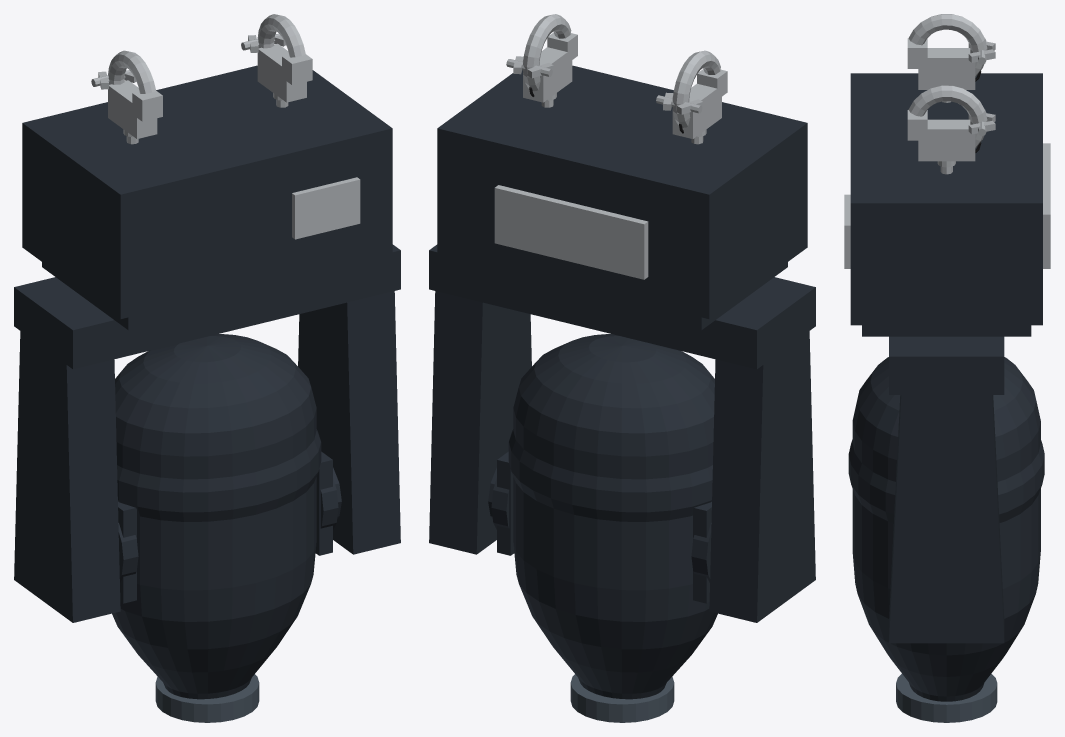
The model's file is moving-head-profile.glb.
The picture shows the model from 3 angles, left to right: view 1: azimuth 30°, elevation 25°; view 2: azimuth 150°, elevation 25°; view 3: azimuth 270°, elevation 25°; orthographic projection. The views are drawn at different scales.
Visible parts, largest first — view 1: moving-base, head-body, yoke-left, yoke-right, yoke-crossbar, truss-coupler, head-cheeks, base-display, lens-ring, truss-coupler-bolt; view 2: moving-base, head-body, yoke-left, yoke-right, yoke-crossbar, base-connectors, truss-coupler, head-cheeks, lens-ring, truss-coupler-bolt; view 3: moving-base, yoke-right, head-body, truss-coupler, yoke-crossbar, lens-ring, base-connectors, truss-coupler-bolt, base-display.
Part boxes in pixels (left/top/right/bottom): moving-base: left=22, top=65, right=392, bottom=330; head-body: left=112, top=334, right=321, bottom=699; yoke-left: left=14, top=331, right=120, bottom=622; yoke-right: left=298, top=291, right=400, bottom=554; yoke-crossbar: left=14, top=244, right=400, bottom=369; truss-coupler: left=108, top=14, right=312, bottom=144; head-cheeks: left=118, top=451, right=338, bottom=603; base-display: left=292, top=177, right=360, bottom=239; lens-ring: left=155, top=674, right=259, bottom=722; truss-coupler-bolt: left=91, top=33, right=285, bottom=89; moving-base: left=437, top=65, right=807, bottom=330; head-body: left=508, top=334, right=717, bottom=699; yoke-left: left=709, top=331, right=815, bottom=622; yoke-right: left=429, top=291, right=531, bottom=554; yoke-crossbar: left=429, top=244, right=815, bottom=369; base-connectors: left=494, top=185, right=648, bottom=279; truss-coupler: left=523, top=14, right=727, bottom=144; head-cheeks: left=491, top=451, right=711, bottom=603; lens-ring: left=570, top=674, right=674, bottom=722; truss-coupler-bolt: left=506, top=56, right=703, bottom=114; moving-base: left=850, top=73, right=1042, bottom=336; yoke-right: left=889, top=395, right=1004, bottom=643; head-body: left=848, top=357, right=1044, bottom=701; truss-coupler: left=907, top=14, right=987, bottom=174; yoke-crossbar: left=889, top=336, right=1004, bottom=394; lens-ring: left=896, top=674, right=997, bottom=722; base-connectors: left=1043, top=143, right=1050, bottom=268; truss-coupler-bolt: left=968, top=39, right=995, bottom=136; base-display: left=844, top=194, right=850, bottom=268.
Bounding box in the file's own units: 0.482 × 0.9348 × 0.268.
